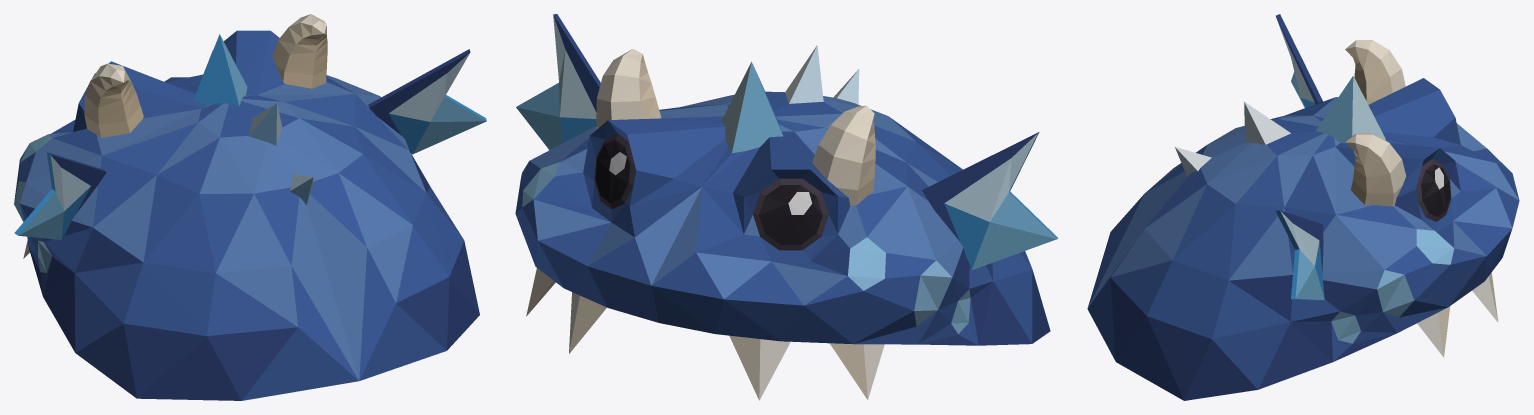
Rendered from Cosmetic_Dragon_Hat_Blue.glb.
The picture shows the model from 3 angles, left to right: view 1: azimuth 30°, elevation 25°; view 2: azimuth 150°, elevation 25°; view 3: azimuth 270°, elevation 25°; orthographic projection. The views are drawn at different scales.
Visible parts, largest first — view 1: Cosmetic_Dragon_Hat_Blue; view 2: Cosmetic_Dragon_Hat_Blue; view 3: Cosmetic_Dragon_Hat_Blue.
Part boxes in pixels (x1,y1,x2,y2): Cosmetic_Dragon_Hat_Blue: (14, 14, 486, 400); Cosmetic_Dragon_Hat_Blue: (515, 14, 1058, 400); Cosmetic_Dragon_Hat_Blue: (1087, 14, 1519, 400).
Bounding box in the file's own units: 1.46 × 0.7666 × 1.22.
